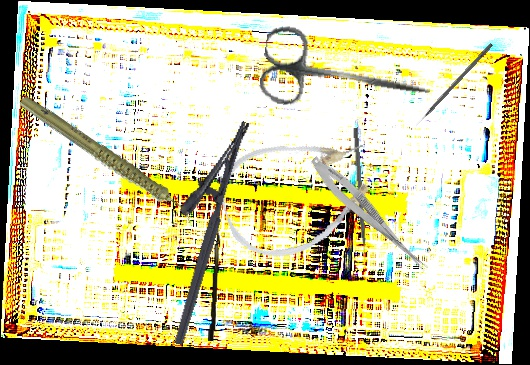Cannula: (208, 116, 390, 272)
Handpiece: (16, 65, 196, 256)
Hook Surgical: (413, 42, 494, 127), (351, 127, 368, 263), (208, 204, 221, 342)
Iris Scissors: (256, 23, 437, 128)
Micro Scissor: (304, 152, 436, 276)
Needle Holder: (141, 110, 253, 347)
